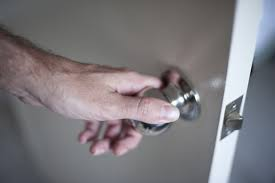hand: (33, 41, 193, 160)
